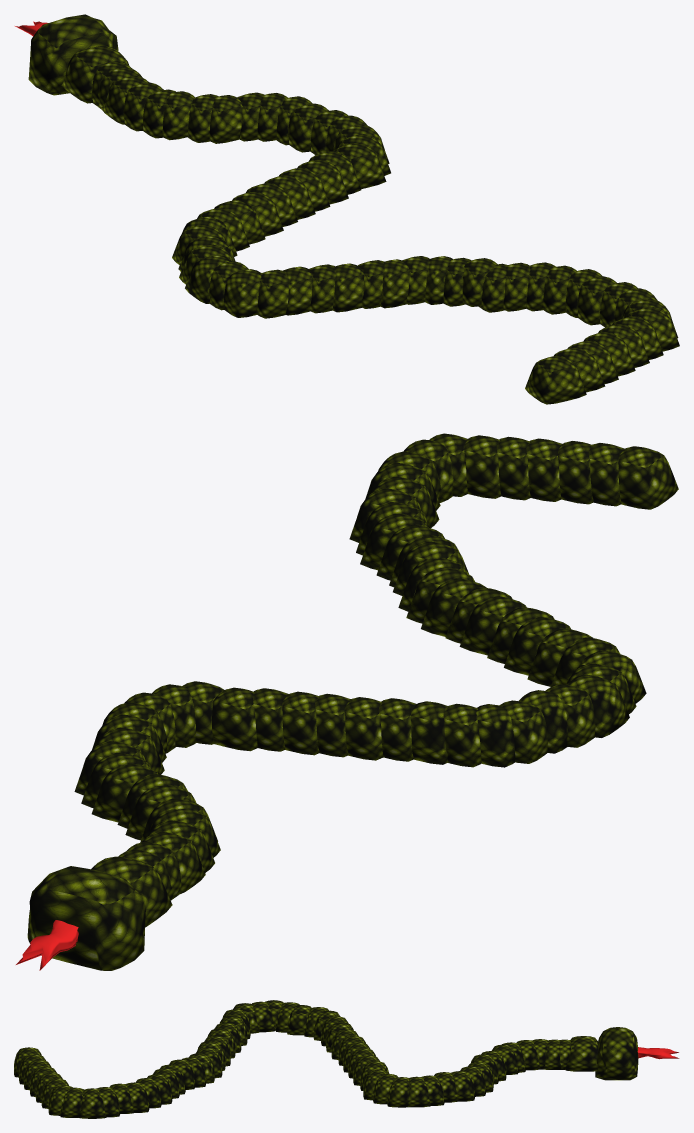
The model's file is snake.gltf.
3 views of the same model, one above another, from view 1: azimuth 30°, elevation 25°; view 2: azimuth 150°, elevation 25°; view 3: azimuth 270°, elevation 25° (orthographic). The views are drawn at different scales.
Visible parts, largest first — view 1: Cube.029, Cube.019, Cube.027, Cube.013, Cube.001, Cube.047, Cube.011, Cube.040, Cube.010, Cube.008, Cube.044, Cube.012 (+42 smaller); view 2: Cube.029, Cube.019, Cube.005, Cube.027, Cube.007, Cube.050, Cube.015, Cube.016, Cube.006, Cube.057, Cube.045, Cube.014 (+46 smaller); view 3: Cube.029, Cube.027, Cube.023, Cube.003, Cube.037, Cube.025, Cube.017, Cube.035, Cube.060, Cube.046, Cube.004, Cube.056 (+49 smaller).
Part boxes in pixels (box(x1,y1,x2,y2)): Cube.029: box(28, 14, 118, 95); Cube.019: box(525, 355, 586, 404); Cube.027: box(61, 46, 129, 103); Cube.013: box(224, 269, 261, 317); Cube.001: box(209, 95, 242, 143); Cube.047: box(257, 269, 289, 318); Cube.011: box(332, 263, 363, 312); Cube.040: box(335, 143, 386, 189); Cube.010: box(380, 259, 409, 308); Cube.008: box(162, 91, 194, 140); Cube.044: box(288, 103, 328, 152); Cube.012: box(283, 266, 312, 315); Cube.029: box(27, 866, 146, 970); Cube.019: box(618, 446, 678, 509); Cube.005: box(212, 687, 257, 751); Cube.027: box(91, 856, 172, 927); Cube.007: box(344, 697, 383, 760); Cube.050: box(443, 703, 481, 767); Cube.015: box(476, 704, 515, 767); Cube.016: box(410, 701, 448, 764); Cube.006: box(282, 691, 319, 755); Cube.057: box(464, 435, 501, 498); Cube.045: box(499, 700, 547, 763); Cube.014: box(566, 674, 629, 737); Cube.029: box(595, 1027, 638, 1080); Cube.027: box(565, 1036, 598, 1071); Cube.023: box(78, 1088, 106, 1118); Cube.003: box(407, 1076, 430, 1107); Cube.037: box(387, 1077, 408, 1107); Cube.025: box(60, 1087, 83, 1117); Cube.017: box(287, 1005, 311, 1035); Cube.035: box(451, 1071, 474, 1101); Cube.060: box(125, 1082, 149, 1112); Cube.046: box(252, 1001, 275, 1032); Cube.004: box(373, 1073, 397, 1104); Cube.056: box(96, 1087, 119, 1117).
Bounding box in the file's own units: 23.38 × 4.22 × 64.34.
Materials: 2 (1 with a texture image).
